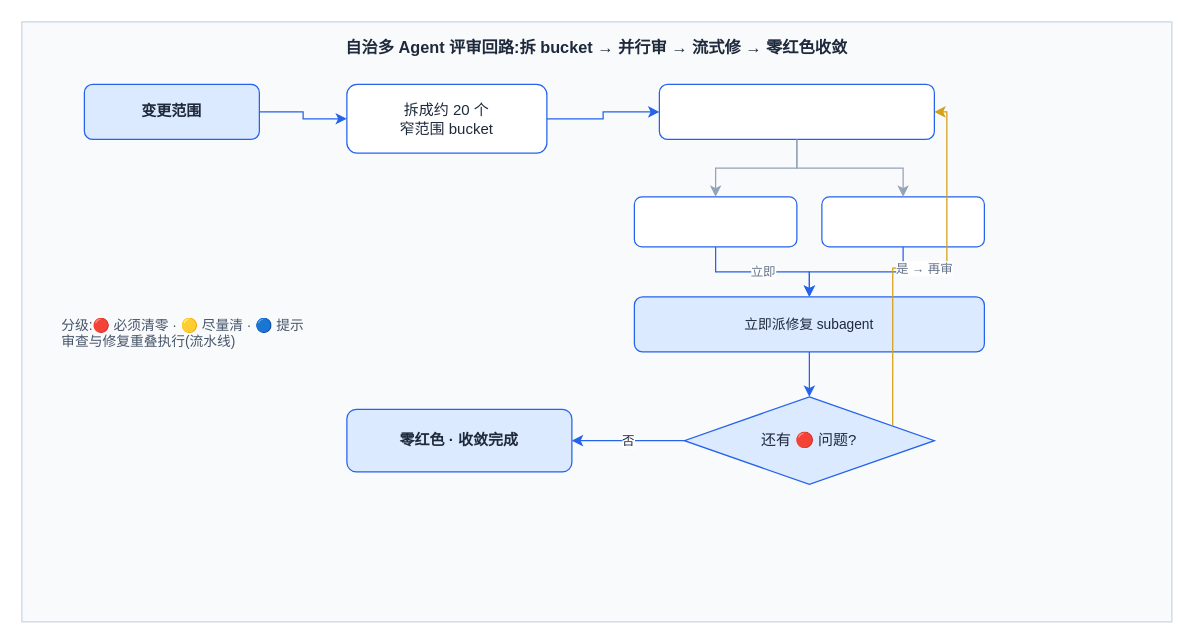
Image size: 1194x644. Some labels were removed from this diagram. The shapes that lost their labels are listed below. From the top down, each one's centre as x and y in pixels, then its label:
At (796,111): "并行派发约 20 个审查 subagent".
At (715,221): "bucket-1 结果".
At (902,221): "bucket-2 结果".
